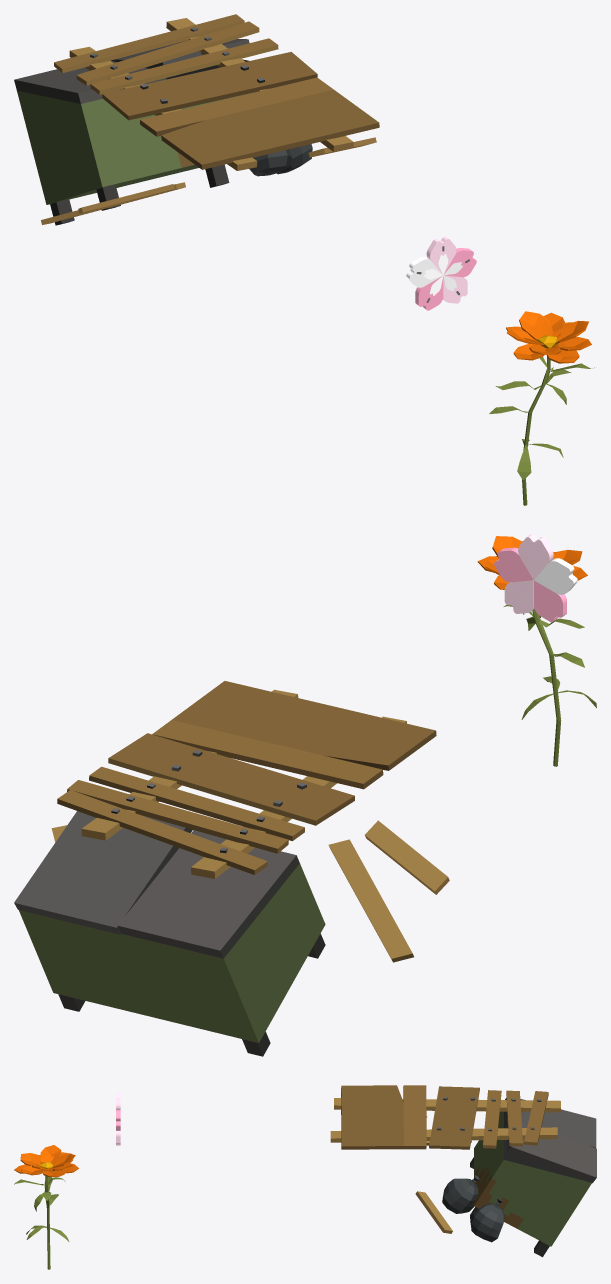
The model's file is onclick1.gltf.
The picture shows the model from 3 angles, top to bottom: view 1: azimuth 30°, elevation 25°; view 2: azimuth 150°, elevation 25°; view 3: azimuth 270°, elevation 25°; orthographic projection. The views are drawn at different scales.
Visible parts, largest first — view 1: Poubelle, Calendula, Flower; view 2: Poubelle, Flower, Calendula; view 3: Poubelle, Calendula, Flower.
Part boxes in pixels (<box>): Poubelle: <box>14,14,379,225</box>; Calendula: <box>489,311,594,505</box>; Flower: <box>406,236,476,310</box>; Poubelle: <box>14,681,449,1056</box>; Flower: <box>494,534,577,622</box>; Calendula: <box>477,536,596,766</box>; Poubelle: <box>330,1085,596,1257</box>; Calendula: <box>14,1145,78,1269</box>; Flower: <box>116,1092,120,1145</box>.
Size of the model in its own units: 13.35 by 9.49 by 30.61.
Materials: 3 (3 with a texture image).
